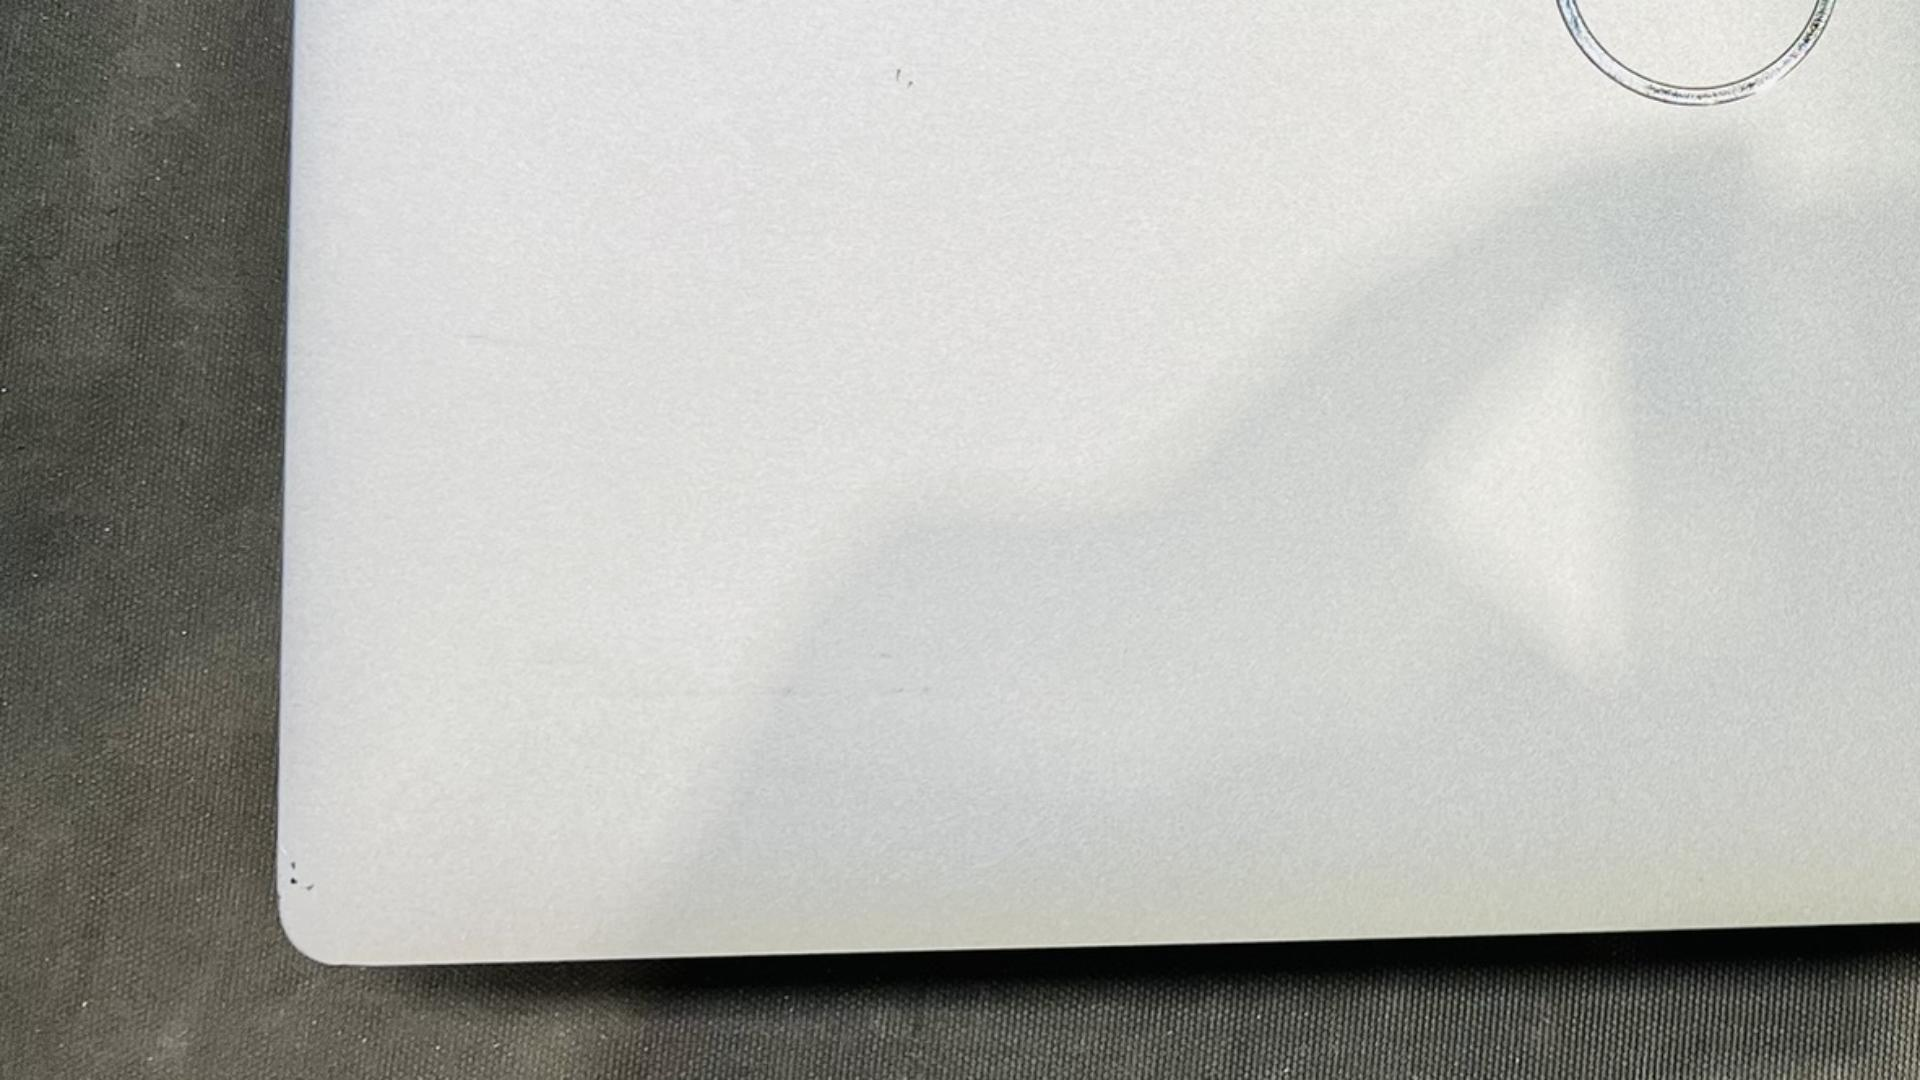chip: (287, 875, 302, 886), (303, 883, 318, 894), (290, 861, 299, 870)
scratches: (895, 68, 903, 82), (906, 79, 916, 89), (1918, 153, 1920, 157)
